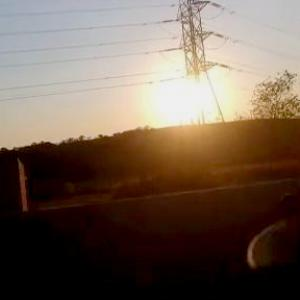follow: (263, 187, 300, 299)
